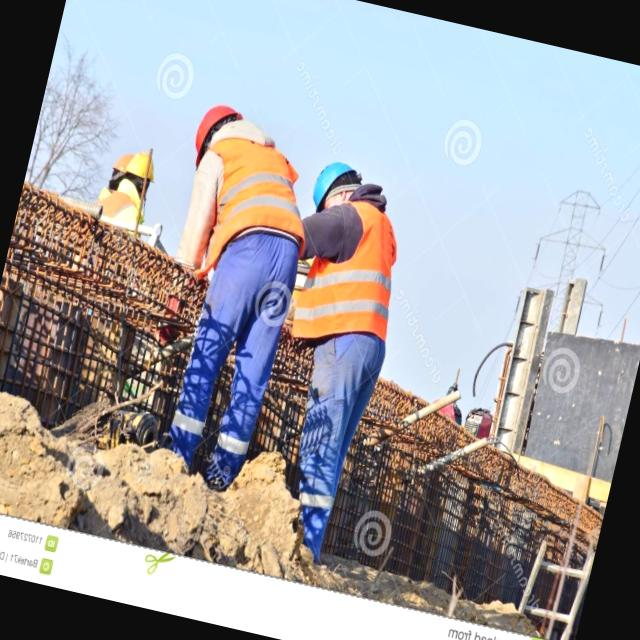vest: (288, 188, 408, 358), (182, 124, 310, 278)
